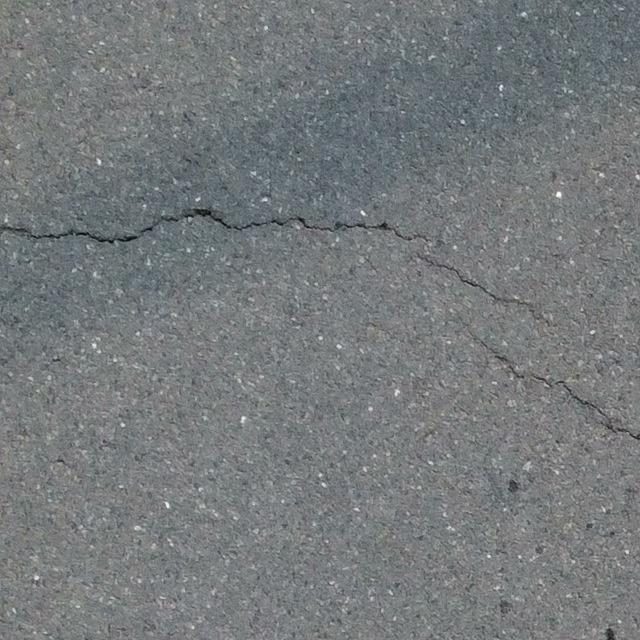TransverseCrack: (469, 333, 640, 439), (2, 208, 433, 245), (420, 252, 550, 322)
